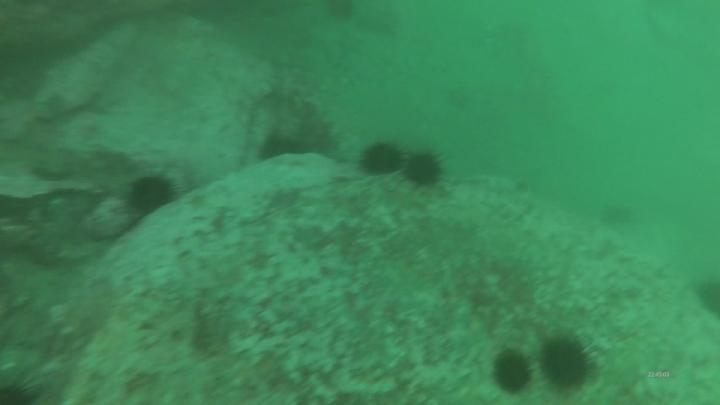echinus: (537, 331, 596, 397), (488, 344, 537, 397), (123, 173, 178, 216), (401, 146, 447, 192), (356, 140, 409, 178), (257, 133, 316, 163), (696, 276, 720, 319), (326, 1, 359, 20)
